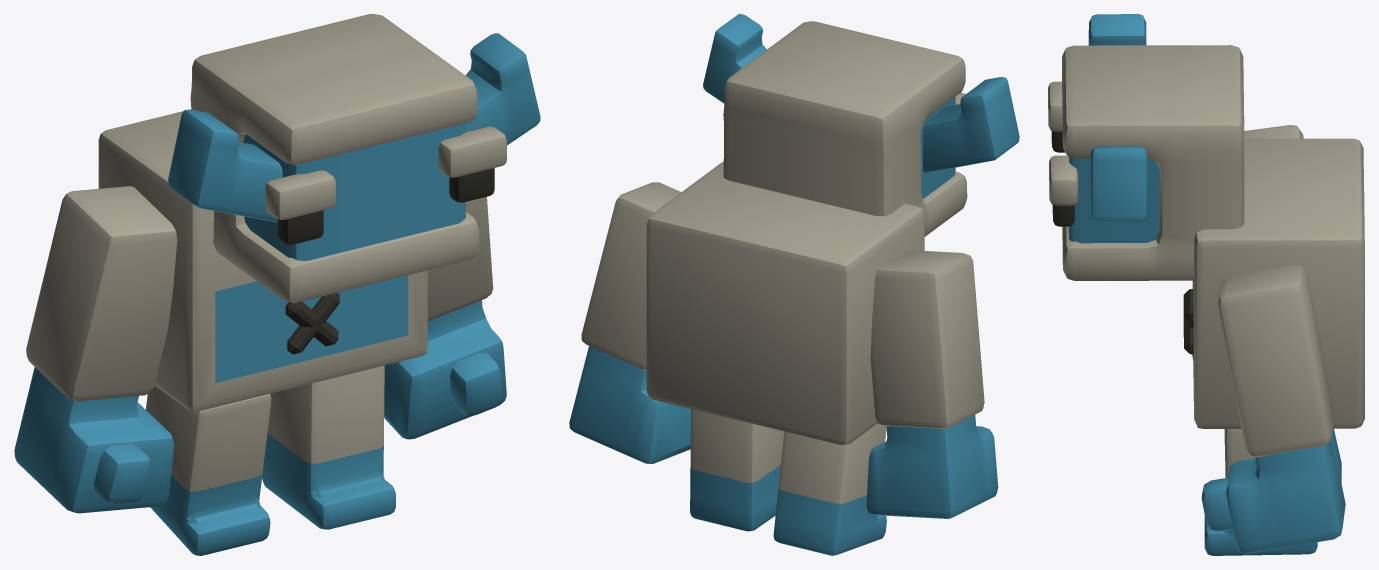
The model's file is tank.obj.
The picture shows the model from 3 angles, left to right: view 1: azimuth 30°, elevation 25°; view 2: azimuth 150°, elevation 25°; view 3: azimuth 270°, elevation 25°; orthographic projection. The views are drawn at different scales.
Visible parts, largest first — view 1: Yeti_Cube.187; view 2: Yeti_Cube.187; view 3: Yeti_Cube.187.
Part boxes in pixels (x1,y1,x2,y2): Yeti_Cube.187: (14,14,540,555); Yeti_Cube.187: (569,14,1019,555); Yeti_Cube.187: (1048,14,1364,555).
Size of the model in its own units: 3 by 3.21 by 2.07.
